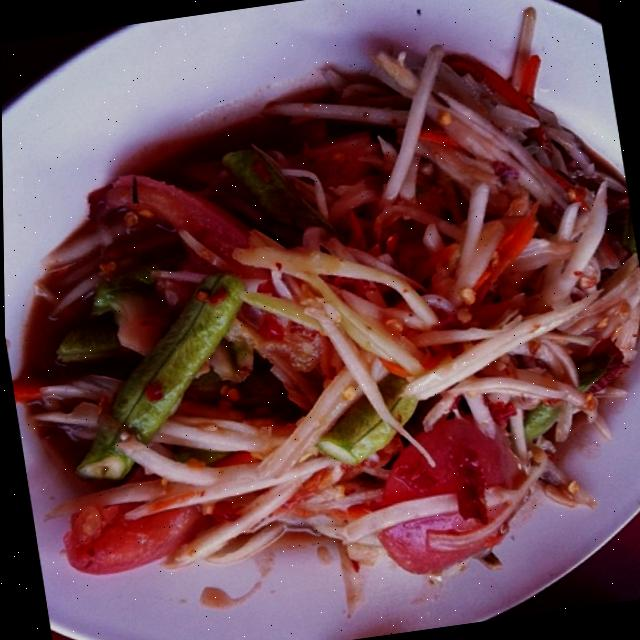蔬菜料理: (0, 40, 640, 638)
